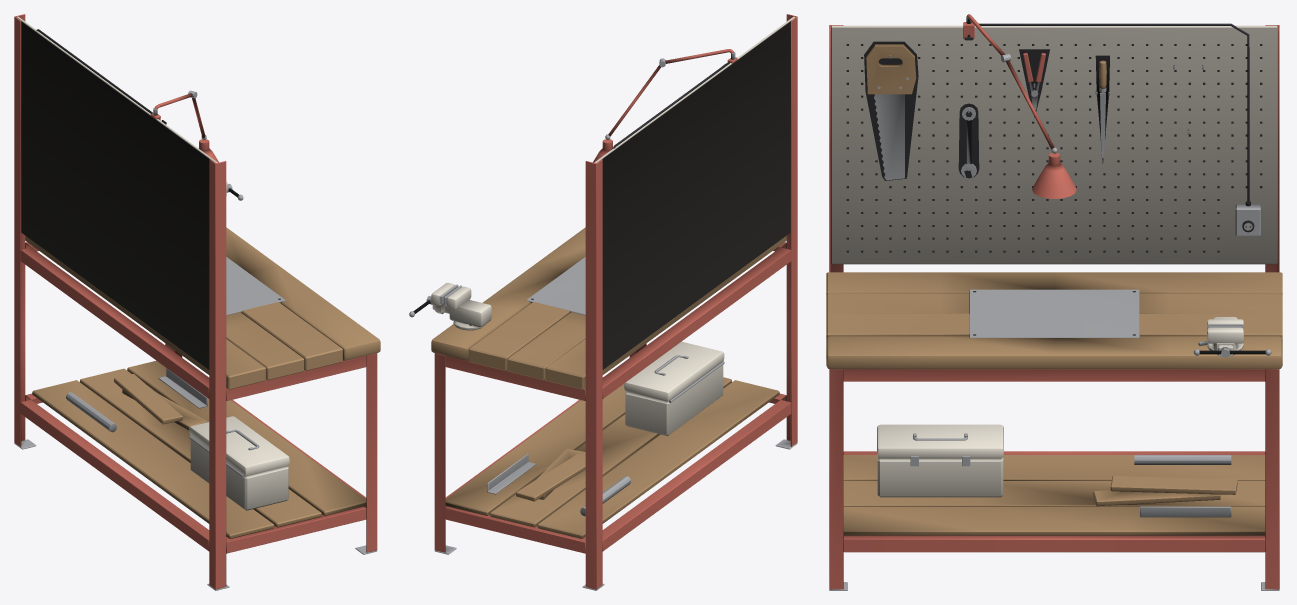
Rendered from workbench.glb.
3 views of the same model, side by side, from view 1: azimuth 30°, elevation 25°; view 2: azimuth 150°, elevation 25°; view 3: azimuth 270°, elevation 25° (orthographic). The views are drawn at different scales.
Parts seen in each view (by area): view 1: PART; view 2: PART; view 3: PART.
Boxes of the visible parts, left/top/right/bottom form: PART: left=14, top=14, right=380, bottom=590; PART: left=409, top=14, right=797, bottom=590; PART: left=826, top=14, right=1282, bottom=590.
Bounding box in the file's own units: 0.871 × 1.9 × 1.6.
